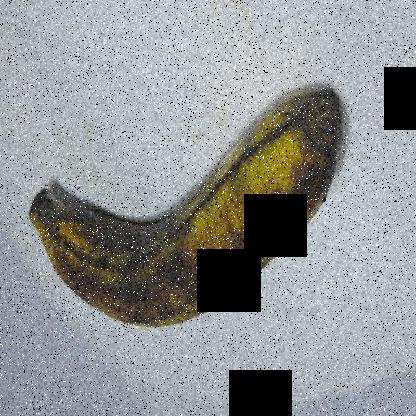overripe: (28, 75, 354, 369)
